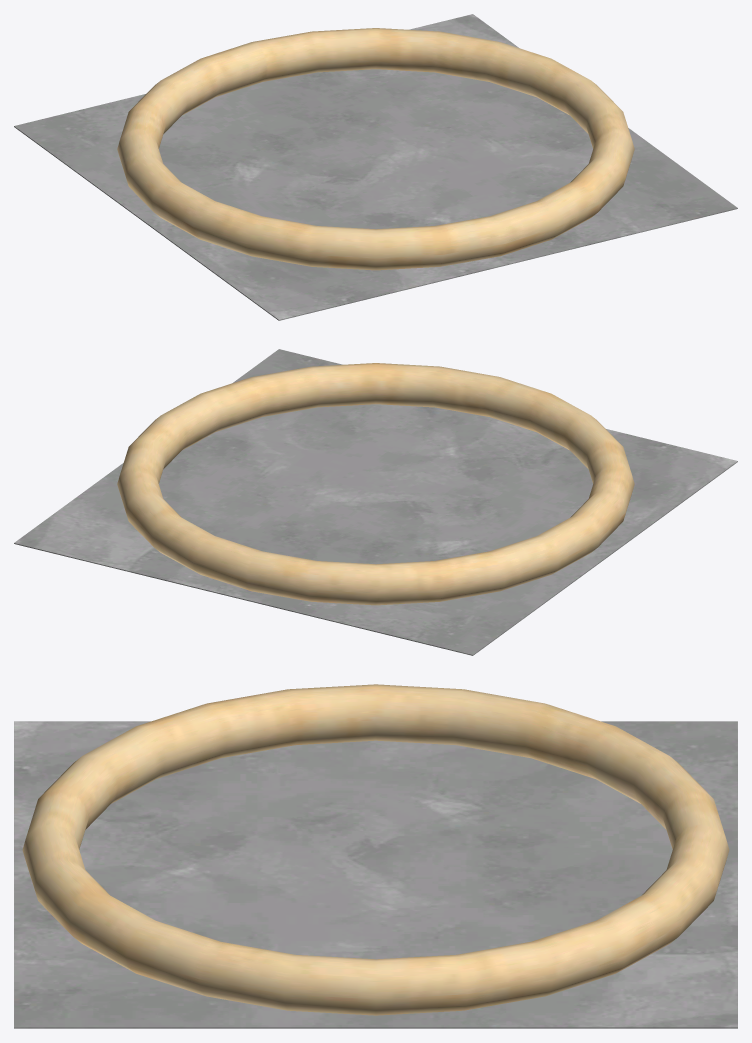
The model's file is stage5.fbx.
3 views of the same model, one above another, from view 1: azimuth 30°, elevation 25°; view 2: azimuth 150°, elevation 25°; view 3: azimuth 270°, elevation 25° (orthographic). The views are drawn at different scales.
Parts seen in each view (by area): view 1: Plane001, Torus001; view 2: Plane001, Torus001; view 3: Plane001, Torus001.
Part boxes in pixels (x1,y1,x2,y2): Plane001: (14,14,737,320); Torus001: (117,28,634,270); Plane001: (14,349,737,655); Torus001: (117,363,634,605); Plane001: (14,721,737,1028); Torus001: (22,684,729,1015).
Bounding box in the file's own units: 512 × 40 × 512.
